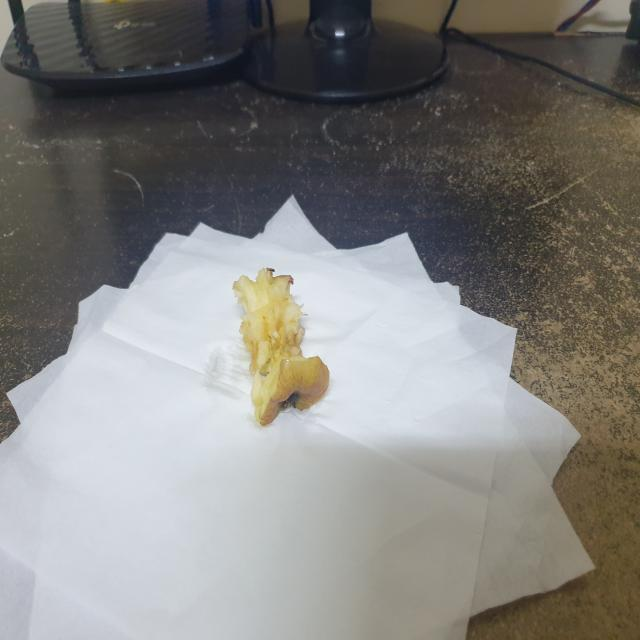apple: (230, 260, 336, 430)
